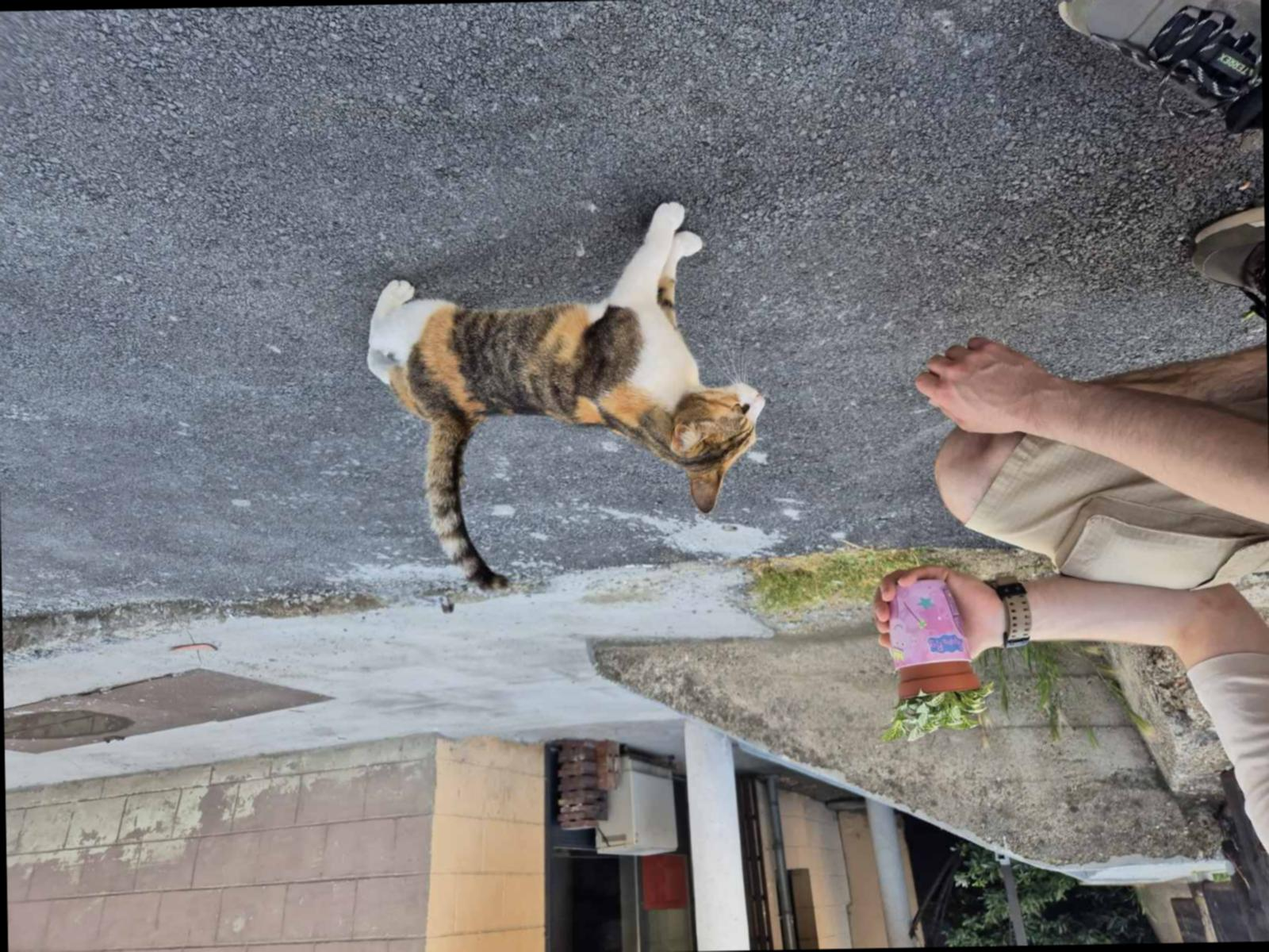macka: (366, 196, 769, 595)
